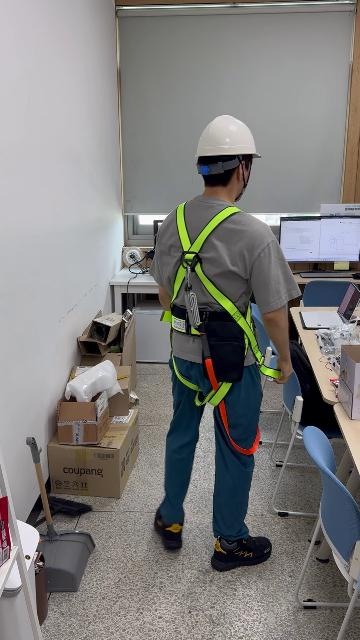helmet_worn: (193, 113, 263, 158)
shoe_worn: (212, 534, 272, 571), (153, 507, 183, 550)
vest_worn: (160, 204, 283, 438)
